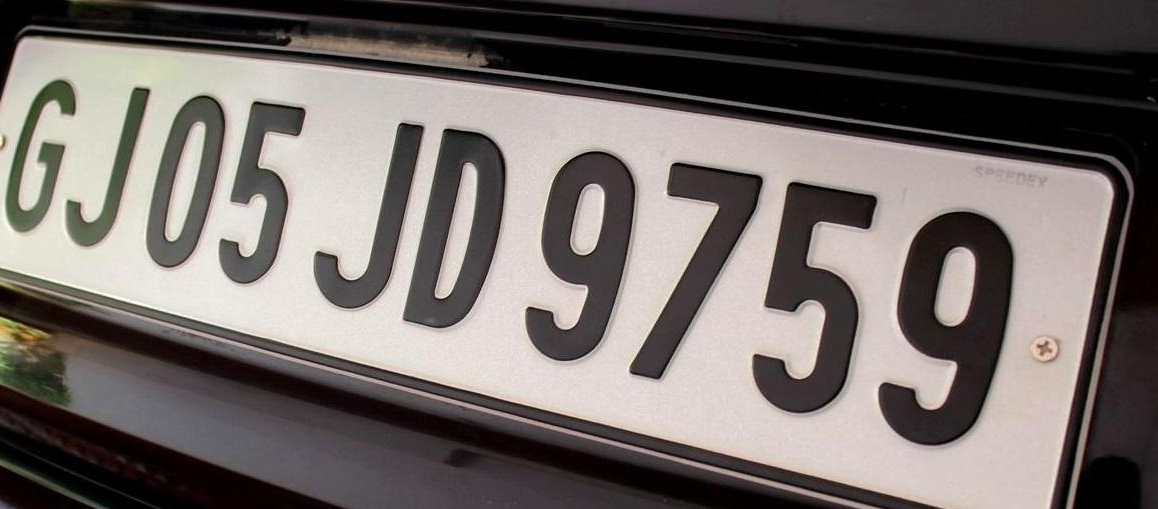0: (144, 95, 226, 271)
5: (750, 178, 877, 419), (218, 99, 307, 287)
7: (628, 161, 765, 387)
9: (877, 208, 1018, 451), (523, 150, 637, 367)
D: (401, 125, 508, 328)
G: (2, 77, 80, 237)
J: (312, 121, 425, 310), (64, 84, 151, 252)
